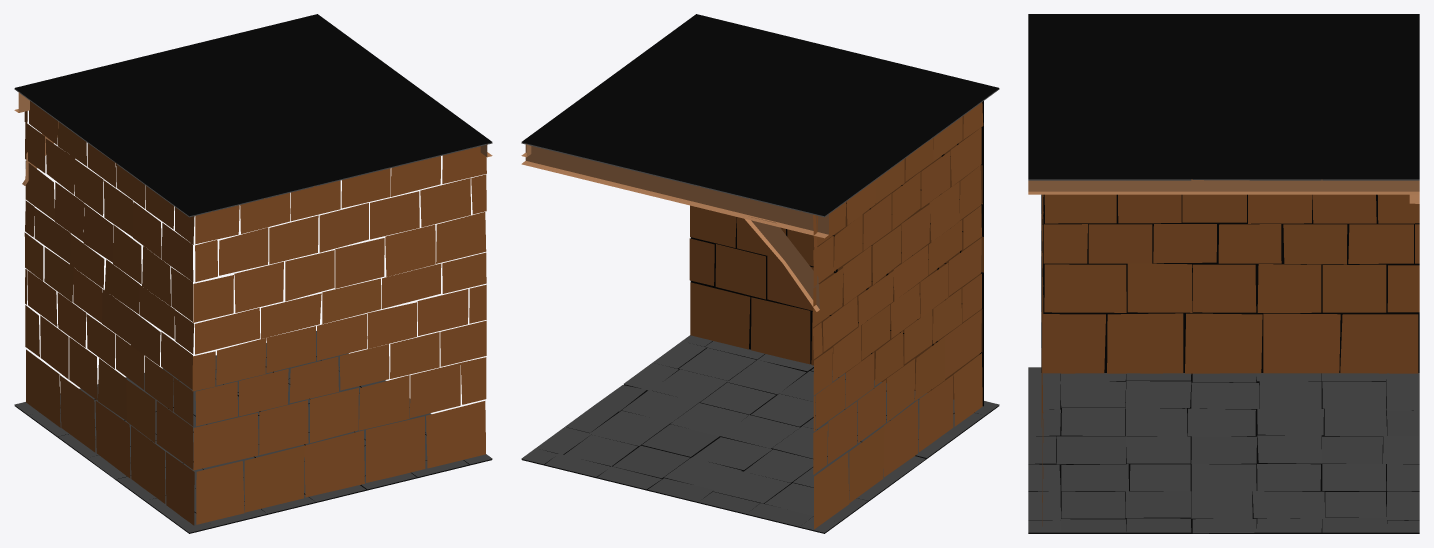
Rendered from wall_7.glb.
3 renders of one model, left to right at view 1: azimuth 30°, elevation 25°; view 2: azimuth 150°, elevation 25°; view 3: azimuth 270°, elevation 25°, orthographic. The views are drawn at different scales.
Parts seen in each view (by area): view 1: wall_7; view 2: wall_7; view 3: wall_7.
Part boxes in pixels (left/top/right/bottom): wall_7: left=14, top=14, right=492, bottom=533; wall_7: left=521, top=14, right=999, bottom=533; wall_7: left=1028, top=14, right=1419, bottom=533.
Bounding box in the file's own units: 3 × 3 × 3.
1 material, 1 textured.
